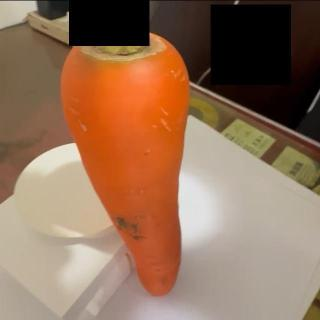carrot: (60, 0, 194, 296)
